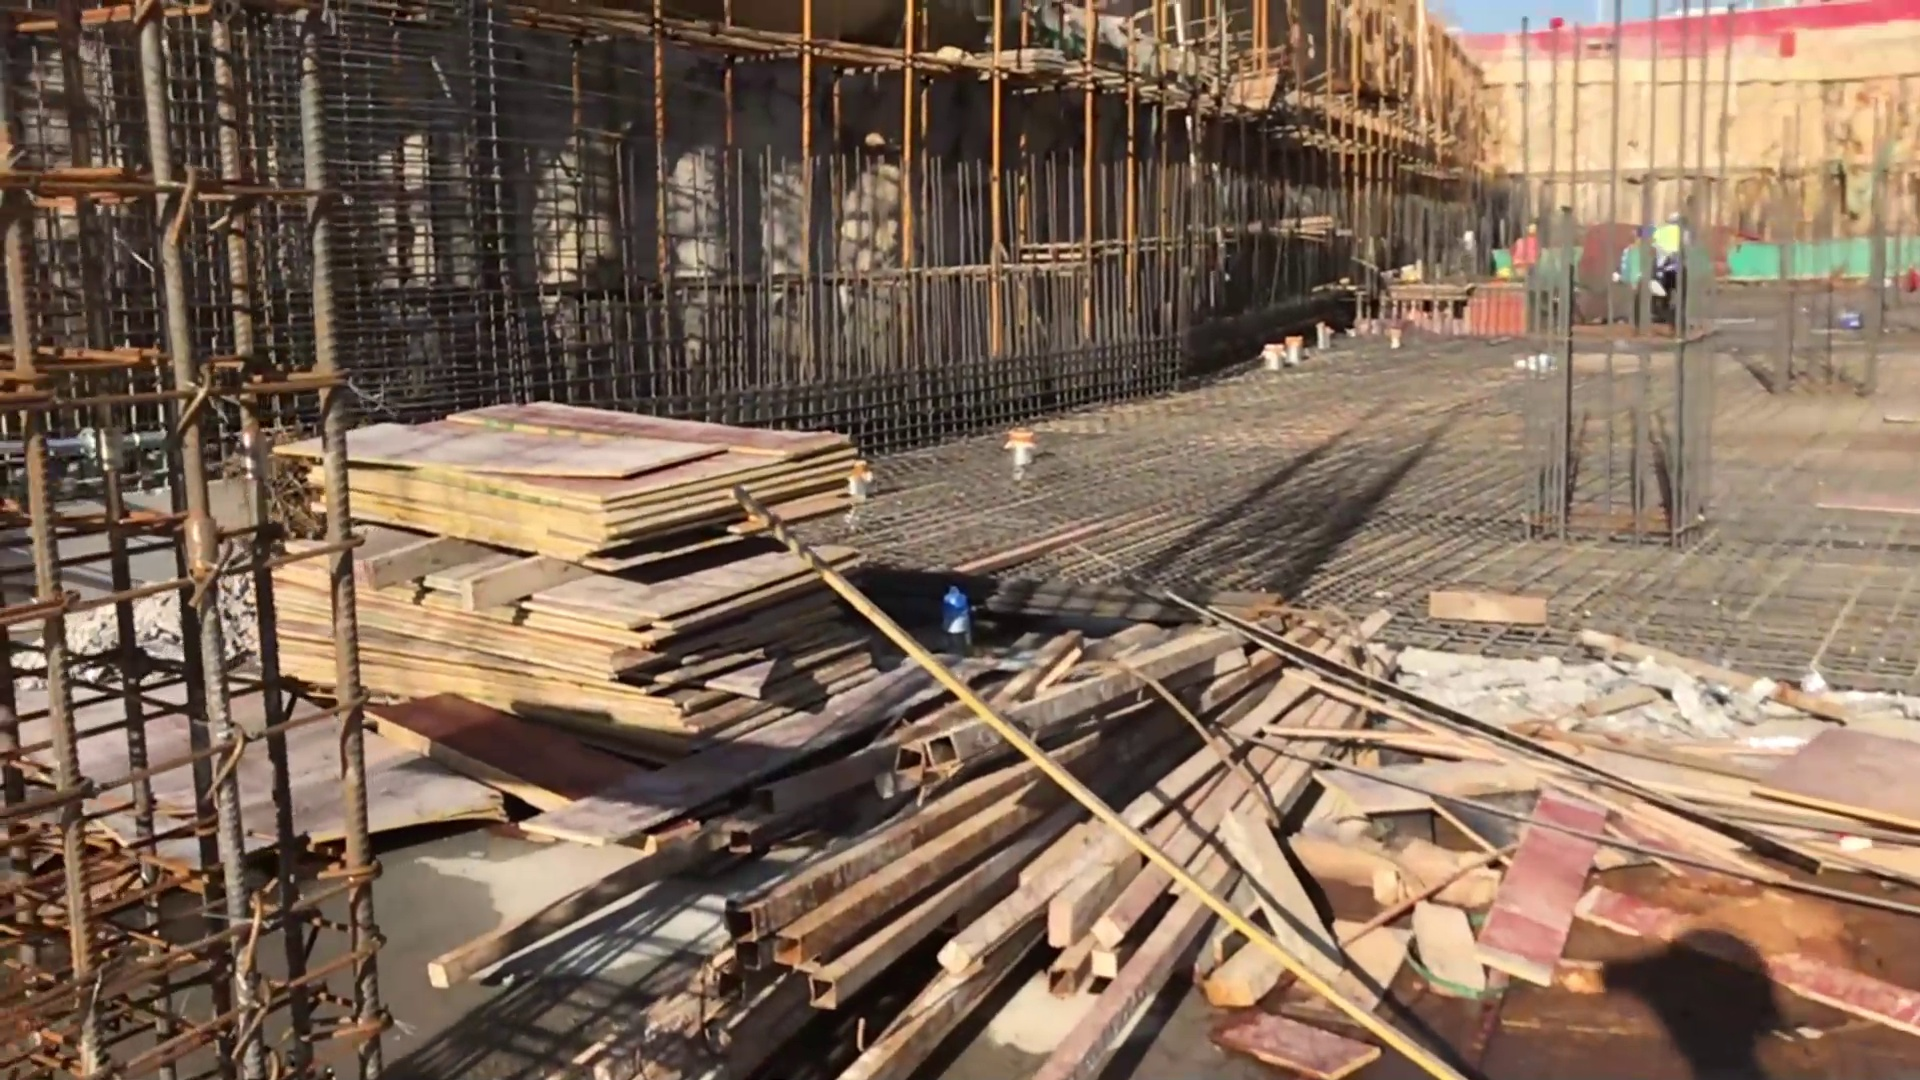board: (285, 397, 856, 738)
rebar: (748, 583, 1373, 1080)
